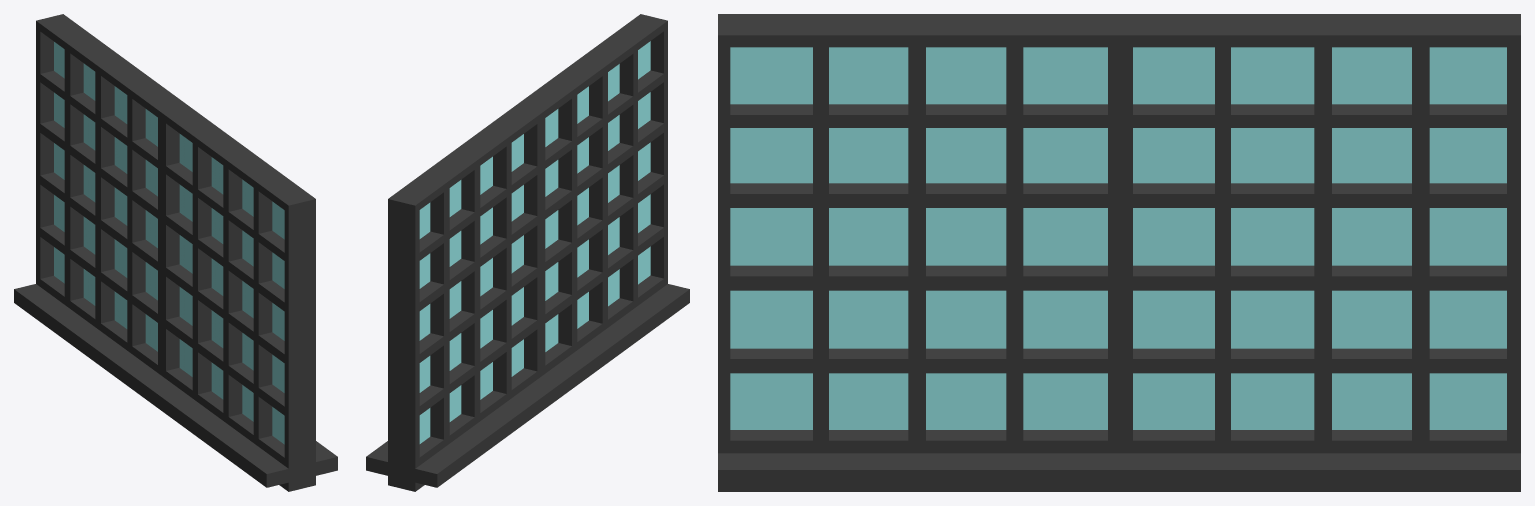
Rendered from Large_Window_low.fbx.
3 views of the same model, side by side, from view 1: azimuth 30°, elevation 25°; view 2: azimuth 150°, elevation 25°; view 3: azimuth 270°, elevation 25° (orthographic). The views are drawn at different scales.
Visible parts, largest first — view 1: Large_Window_low; view 2: Large_Window_low; view 3: Large_Window_low.
Boxes of the visible parts, x1,y1,x2,y2 form: Large_Window_low: (14,14,337,491); Large_Window_low: (366,14,689,491); Large_Window_low: (718,14,1520,491).
Bounding box in the file's own units: 6.5 × 25 × 40.
